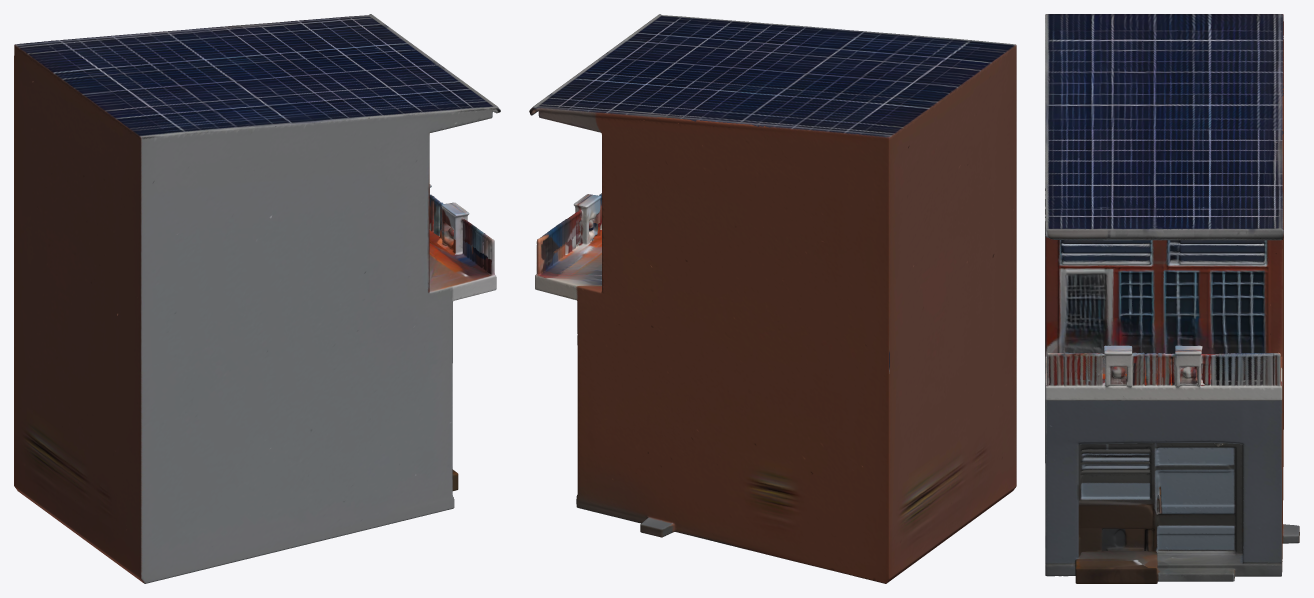
Rendered from build2.fbx.
3 views of the same model, side by side, from view 1: azimuth 30°, elevation 25°; view 2: azimuth 150°, elevation 25°; view 3: azimuth 270°, elevation 25° (orthographic). The views are drawn at different scales.
Parts seen in each view (by area): view 1: tripo_node_7bbc83f9; view 2: tripo_node_7bbc83f9; view 3: tripo_node_7bbc83f9.
Part boxes in pixels (bbox=[...]): tripo_node_7bbc83f9: bbox=[14, 14, 500, 583]; tripo_node_7bbc83f9: bbox=[529, 14, 1016, 583]; tripo_node_7bbc83f9: bbox=[1045, 14, 1299, 583].
Size of the model in its own units: 84.35 by 100 by 55.04.
